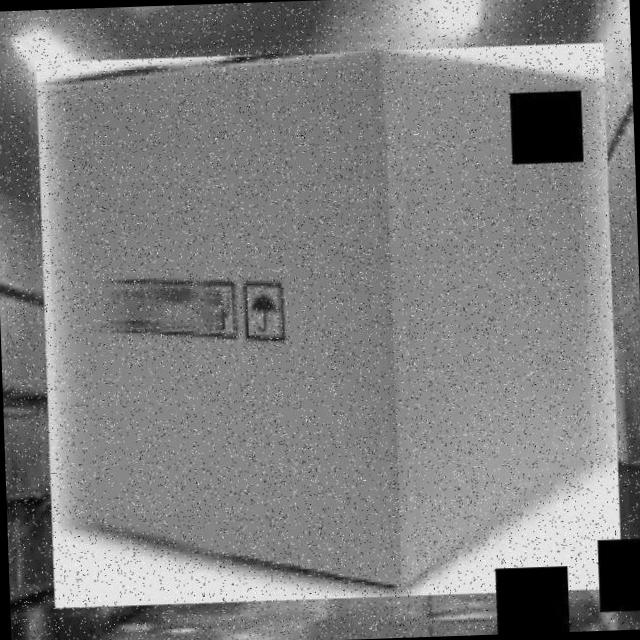box: (27, 33, 632, 618)
